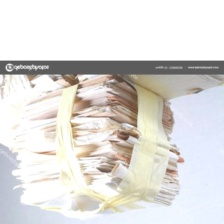news_paper: (9, 74, 187, 221)
